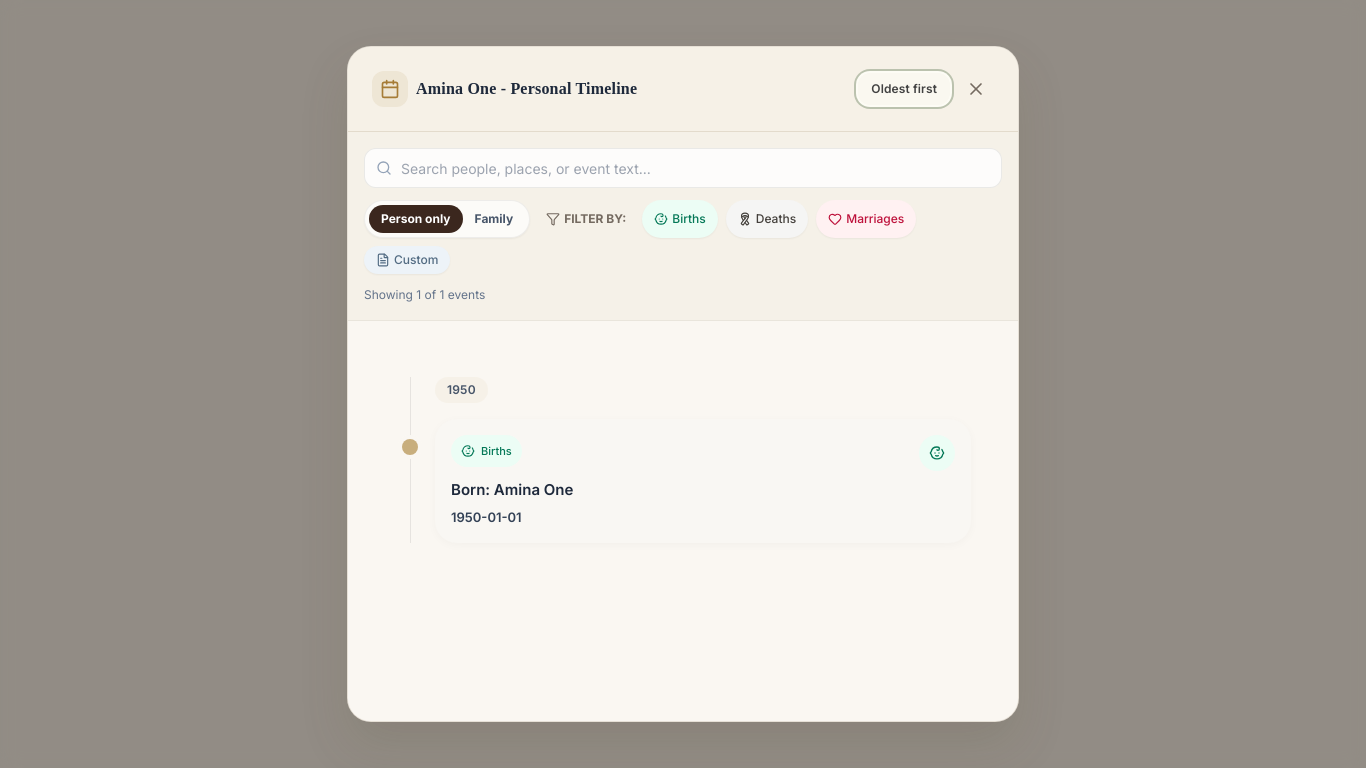
Test: TimelineModal › opens in person scope when launched for a selected person and can switch to family scope
Expected: the heading "Amina One - Personal Timeline" is shown, top-left (416, 80), bottom-right (637, 98)
Expected: the text "Born: Amina One" is shown, top-left (451, 479), bottom-right (573, 502)
Step 1. Click the button "Family" → click(494, 219), box top-left (462, 205), bottom-right (525, 233)
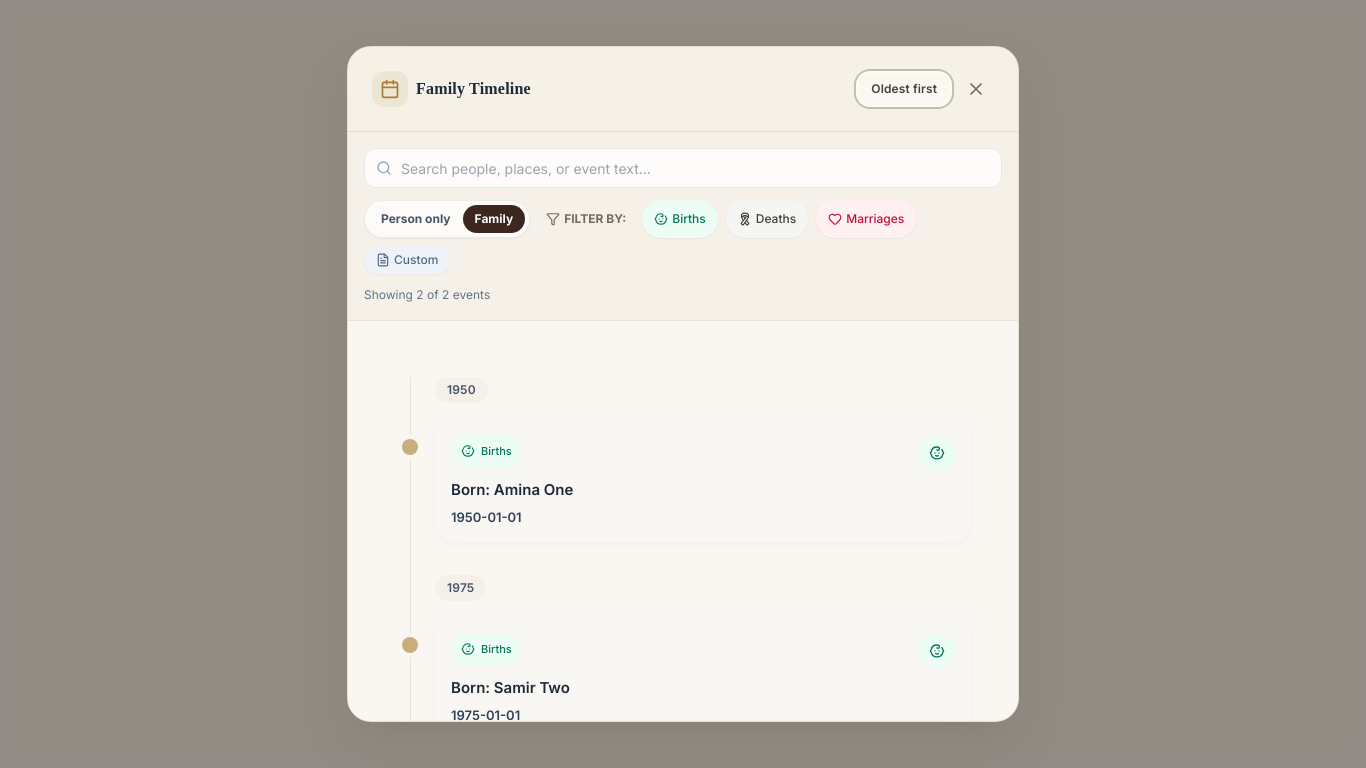
Expected: the text "Born: Amina One" is shown, top-left (451, 479), bottom-right (573, 502)
Expected: the heading "Family Timeline" is shown, top-left (416, 80), bottom-right (531, 98)
Expected: the text "Born: Samir Two" is shown, top-left (451, 677), bottom-right (570, 700)
Step 2. Type "Samir" into the search field labelled "Search people, places, or event text..." → (683, 168), box top-left (364, 148), bottom-right (1002, 188)
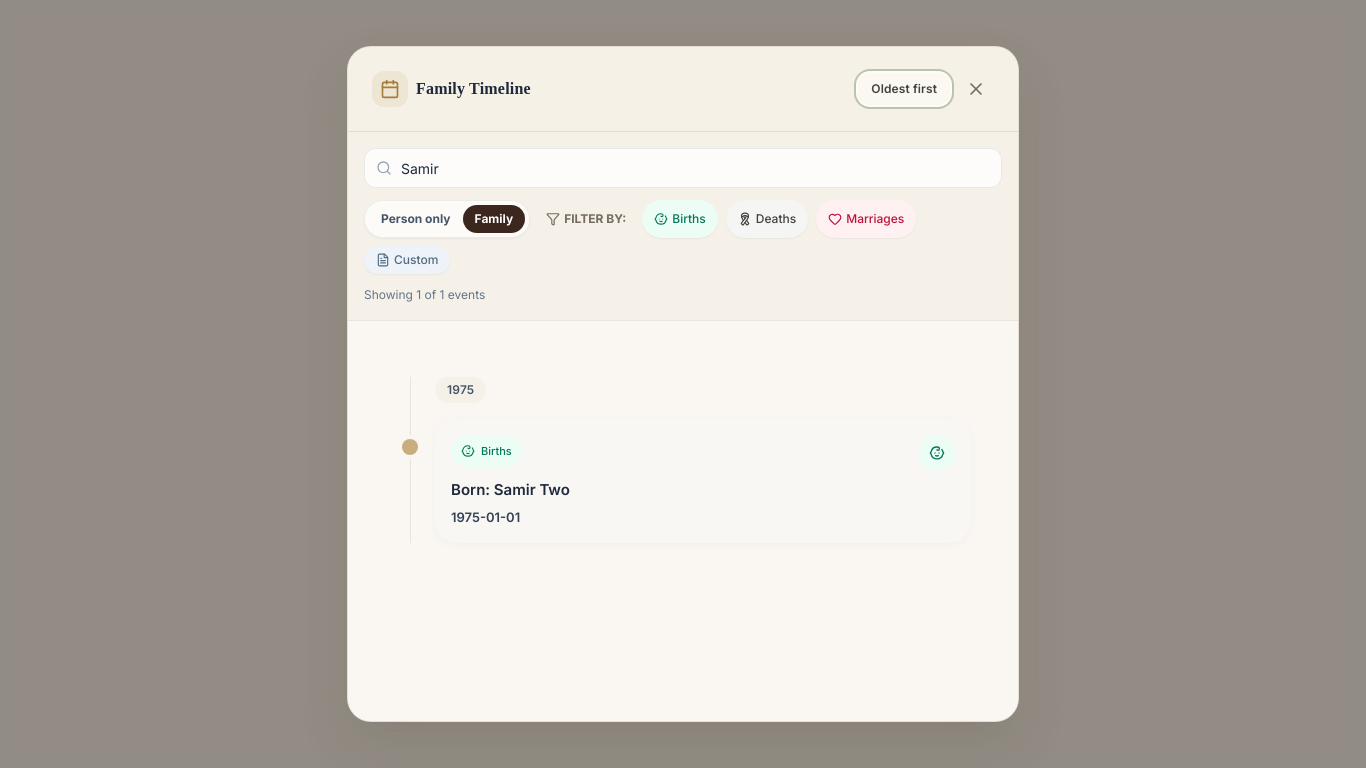
Expected: the text "Born: Samir Two" is shown, top-left (451, 479), bottom-right (570, 502)
Expected: the button "Born: Amina One" is gone
Expected: the text "Showing 1 of 1 events" is shown, top-left (364, 287), bottom-right (485, 302)
